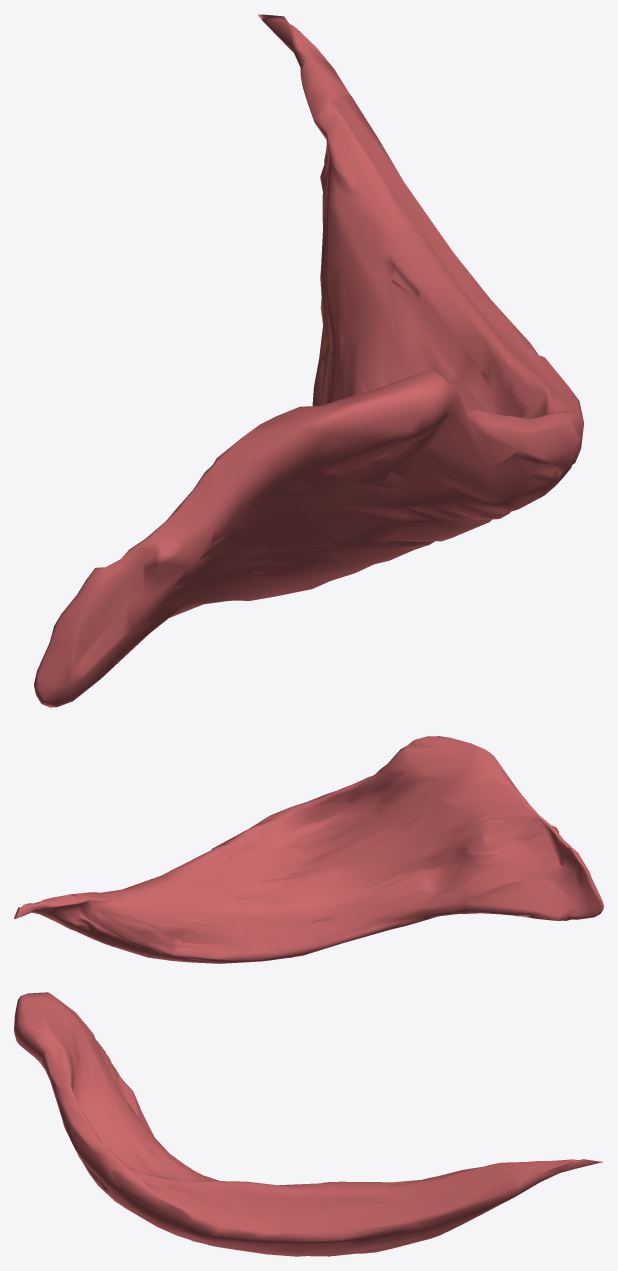
3 renders of one model, top to bottom at view 1: azimuth 30°, elevation 25°; view 2: azimuth 150°, elevation 25°; view 3: azimuth 270°, elevation 25°, orthographic. The views are drawn at different scales.
Visible parts, largest first — view 1: 左侧三角肌锁骨部; view 2: 左侧三角肌锁骨部; view 3: 左侧三角肌锁骨部.
Part boxes in pixels (x1,y1,x2,y2): 左侧三角肌锁骨部: (34, 14, 583, 707); 左侧三角肌锁骨部: (14, 736, 603, 963); 左侧三角肌锁骨部: (14, 992, 602, 1256).
Size of the model in its own units: 0.1857 by 0.0808 by 0.2291.
